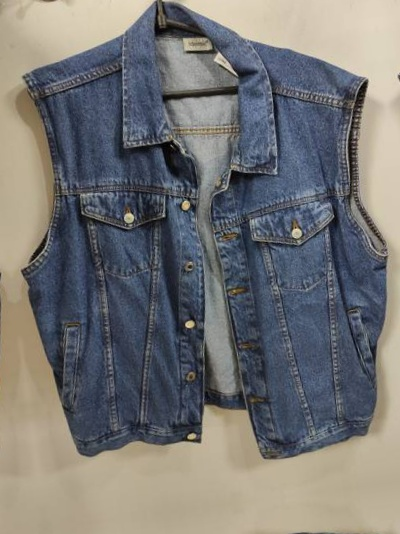Blazer: (0, 0, 400, 486), (0, 25, 17, 534), (386, 0, 400, 435), (73, 519, 400, 534)
